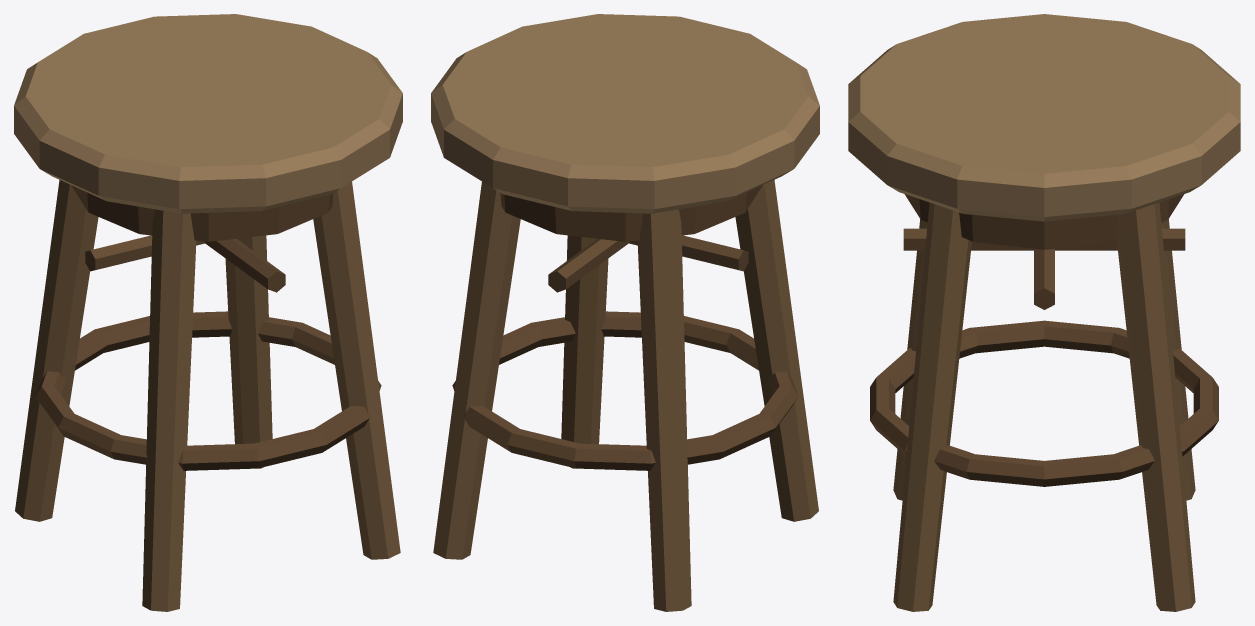
Rendered from prop_stool.glb.
3 renders of one model, left to right at view 1: azimuth 30°, elevation 25°; view 2: azimuth 150°, elevation 25°; view 3: azimuth 270°, elevation 25°, orthographic. The views are drawn at different scales.
Visible parts, largest first — view 1: prop_stool; view 2: prop_stool; view 3: prop_stool.
Part boxes in pixels (<box>): prop_stool: <box>14,14,402,611</box>; prop_stool: <box>431,14,819,611</box>; prop_stool: <box>848,14,1240,611</box>.
Bounding box in the file's own units: 0.4 × 0.5026 × 0.39.
